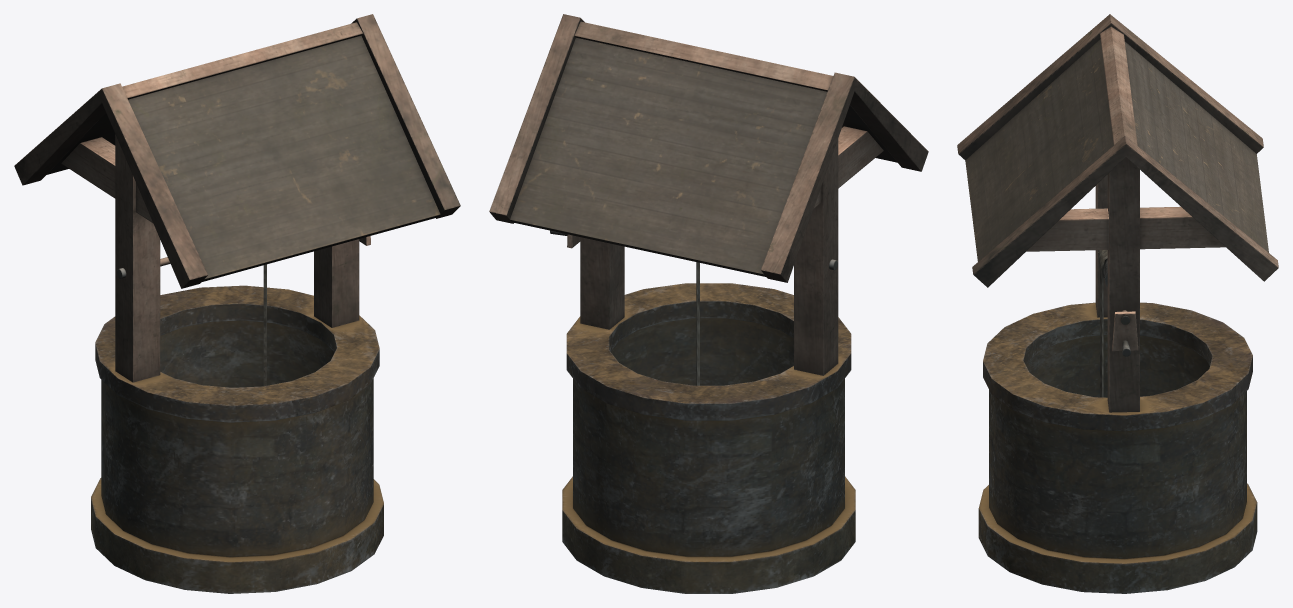
The model's file is well.obj.
3 views of the same model, side by side, from view 1: azimuth 30°, elevation 25°; view 2: azimuth 150°, elevation 25°; view 3: azimuth 270°, elevation 25° (orthographic). The views are drawn at different scales.
Visible parts, largest first — view 1: uploads_files_2304363_Well; view 2: uploads_files_2304363_Well; view 3: uploads_files_2304363_Well.
Part boxes in pixels (bbox=[...]): uploads_files_2304363_Well: bbox=[14, 14, 460, 593]; uploads_files_2304363_Well: bbox=[489, 14, 928, 593]; uploads_files_2304363_Well: bbox=[957, 14, 1278, 593].
Bounding box in the file's own units: 2.48 × 3.82 × 2.44.
Materials: 1 (1 with a texture image).
